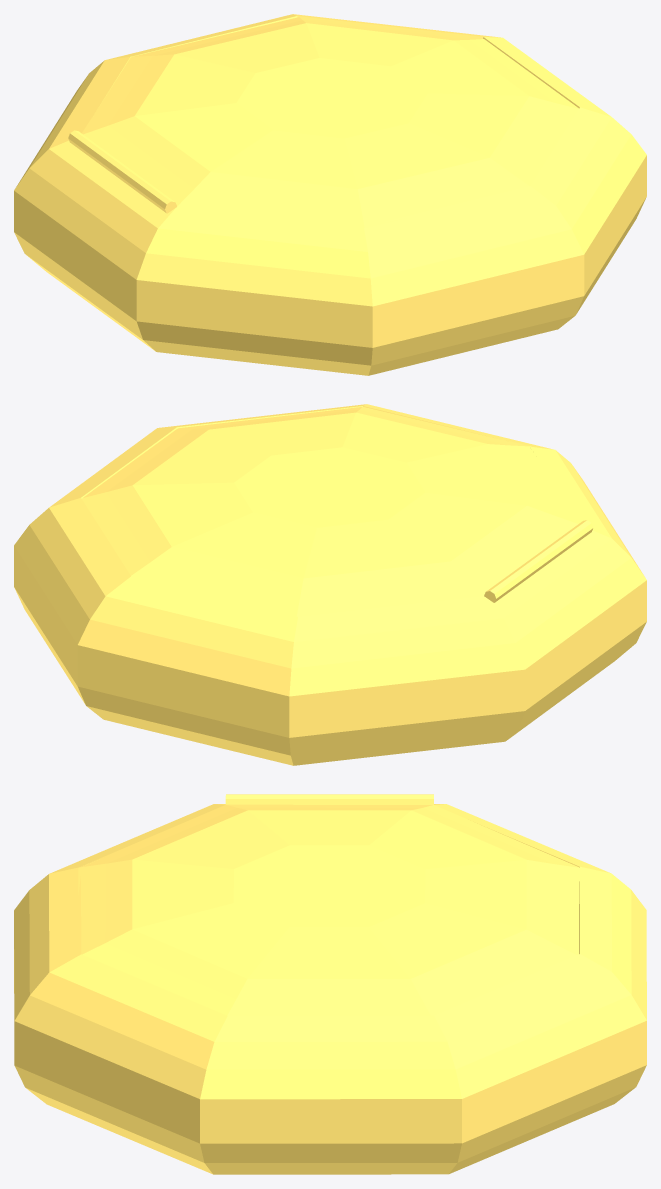
File: relogio.fbx
3 views of the same model, one above another, from view 1: azimuth 30°, elevation 25°; view 2: azimuth 150°, elevation 25°; view 3: azimuth 270°, elevation 25° (orthographic). The views are drawn at different scales.
Visible parts, largest first — view 1: relogio, tampa; view 2: relogio, tampa; view 3: relogio, tampa.
Boxes of the visible parts, x1,y1,x2,y2 form: relogio: [14, 14, 646, 375]; tampa: [68, 17, 578, 228]; relogio: [14, 404, 646, 765]; tampa: [82, 406, 593, 616]; relogio: [14, 804, 646, 1174]; tampa: [78, 794, 579, 1015].
Size of what is drawn, in the model's own units: 185 by 58.2 by 185.
